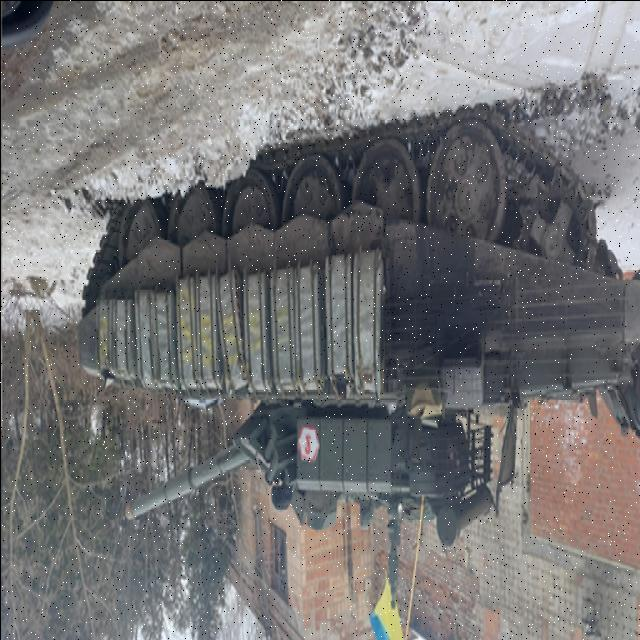TANK: (70, 106, 632, 554)
